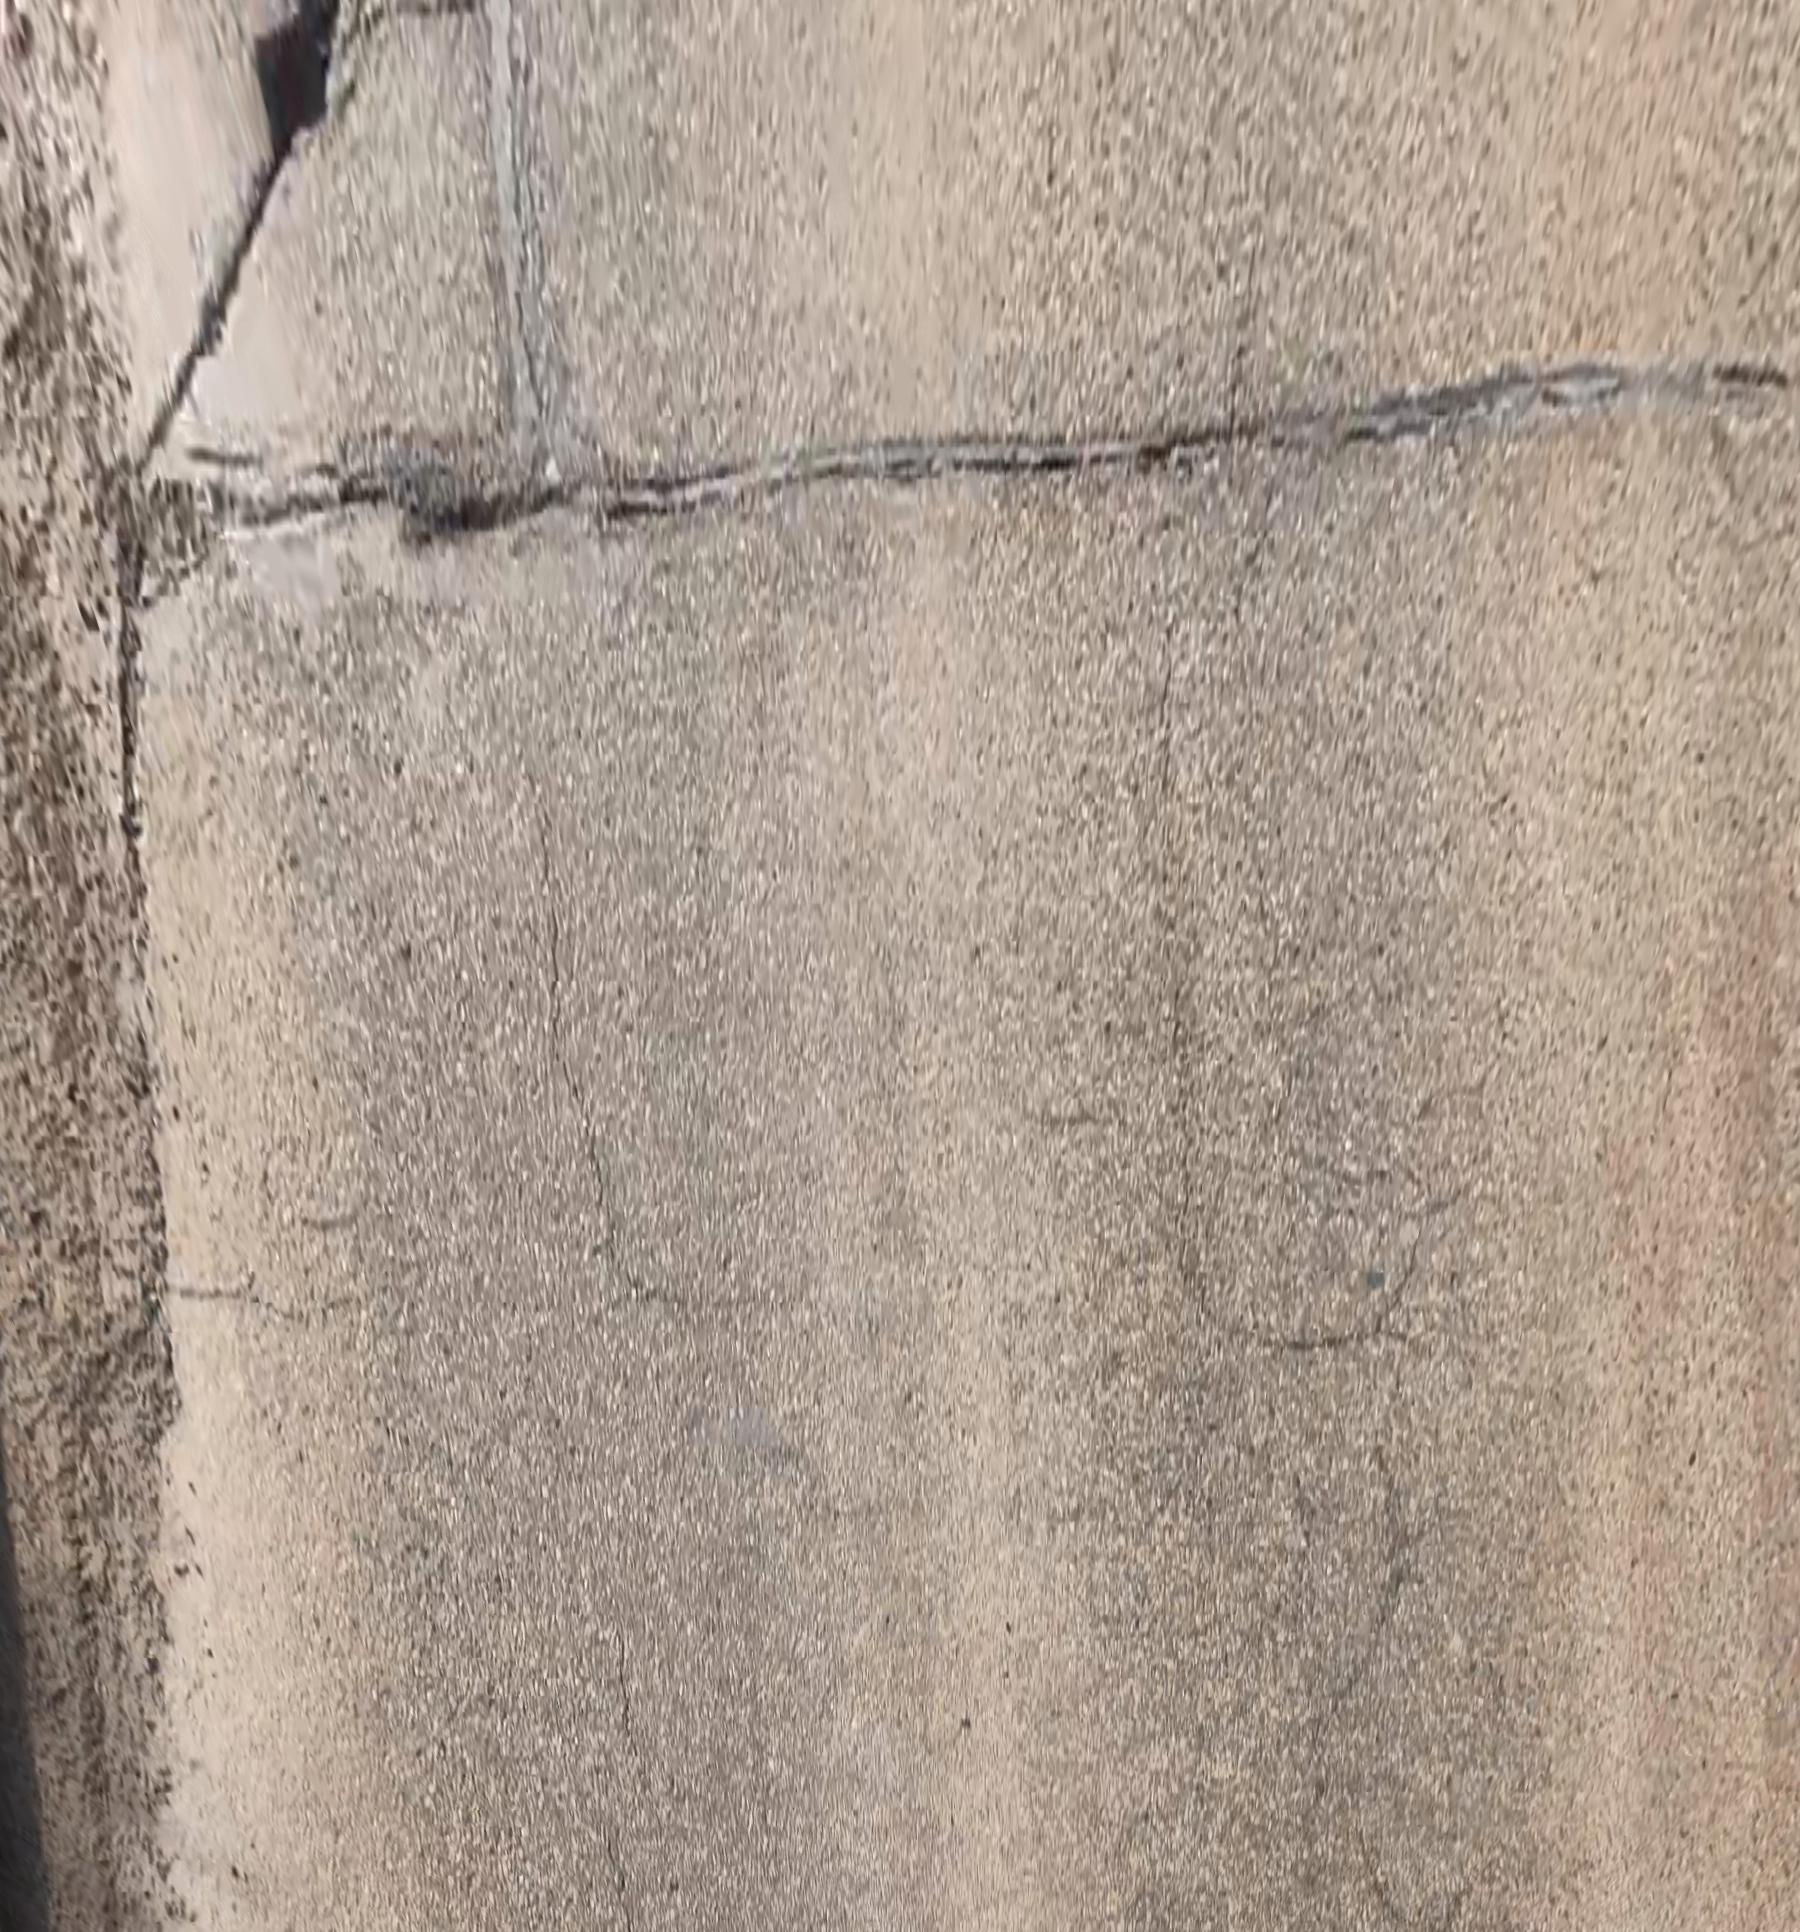pothole: (325, 430, 557, 540), (235, 0, 335, 142)
